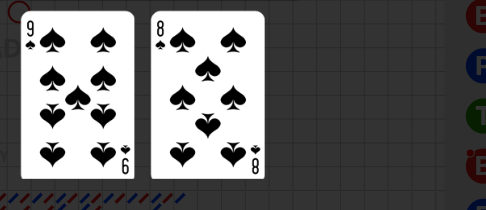10S: (248, 142, 261, 175)
9S: (118, 142, 131, 175)
